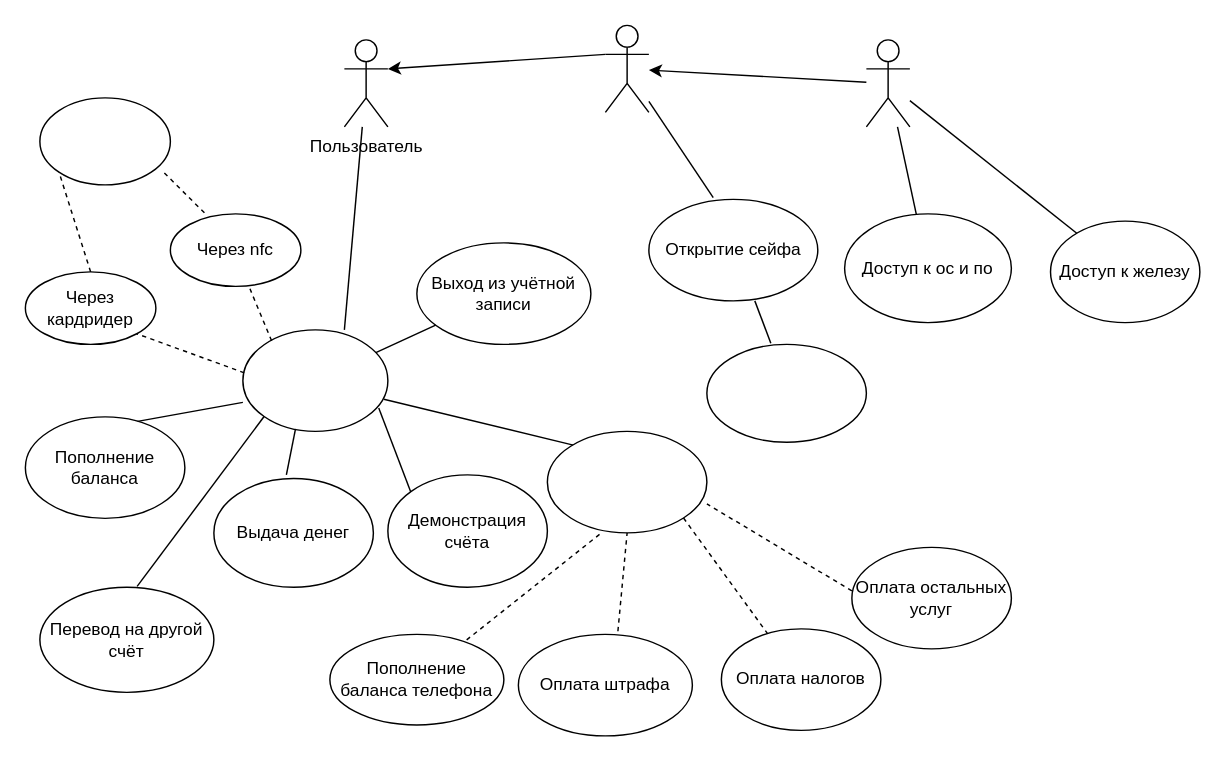
This 1225x761 diagram has some shape labels left out. The shapes that lost their labels are listed below. From the top down, each one's centre as x and y in pixels, then its label:
At point 626,68: "Инкассатор".
At point 887,82: "Сервис".
At point 104,140: "Проверка".
At point 314,379: "Авторизация".
At point 785,392: "Извлечение/ пополнение купюр".
At point 626,481: "Оплата различных услуг".
